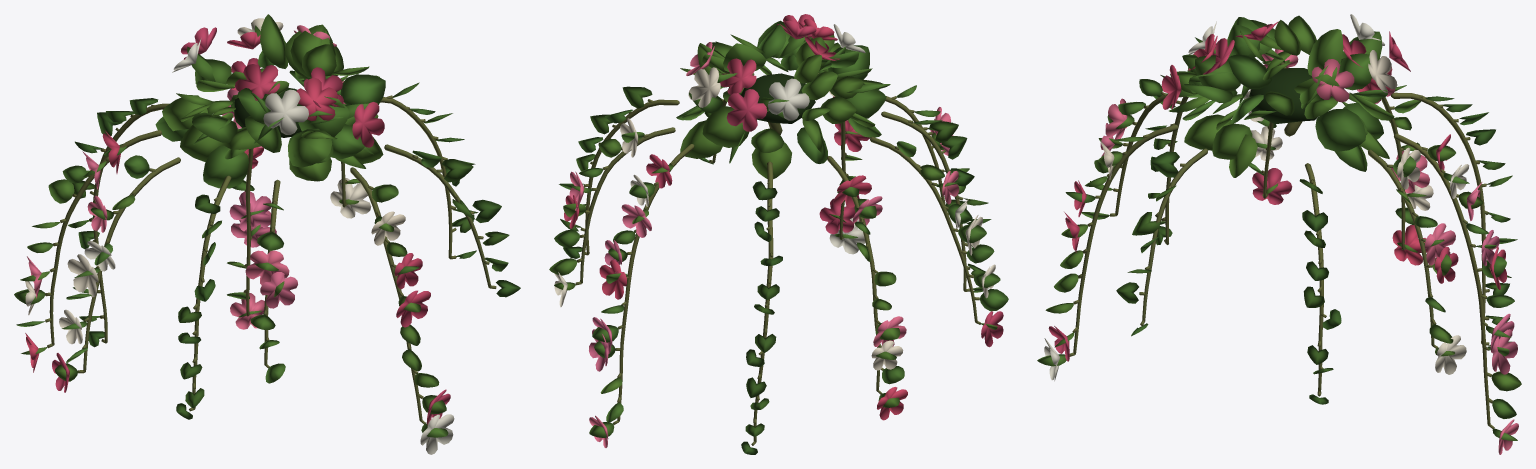
Rendered from basket_trailing_pink.glb.
3 views of the same model, side by side, from view 1: azimuth 30°, elevation 25°; view 2: azimuth 150°, elevation 25°; view 3: azimuth 270°, elevation 25° (orthographic). The views are drawn at different scales.
Visible parts, largest first — view 1: Sammel Pflanze, Sammel Putz; view 2: Sammel Pflanze, Sammel Putz, Sammel Blatt; view 3: Sammel Pflanze, Sammel Putz, Sammel Blatt.
Part boxes in pixels (x1,y1,x2,y2): Sammel Pflanze: [14, 14, 520, 454]; Sammel Putz: [45, 95, 496, 424]; Sammel Pflanze: [549, 14, 1008, 454]; Sammel Putz: [575, 73, 980, 445]; Sammel Blatt: [741, 73, 815, 123]; Sammel Pflanze: [1037, 14, 1521, 454]; Sammel Putz: [1069, 62, 1494, 428]; Sammel Blatt: [1249, 68, 1317, 124].
Size of the model in its own units: 0.6445 by 0.5395 by 0.6054.
